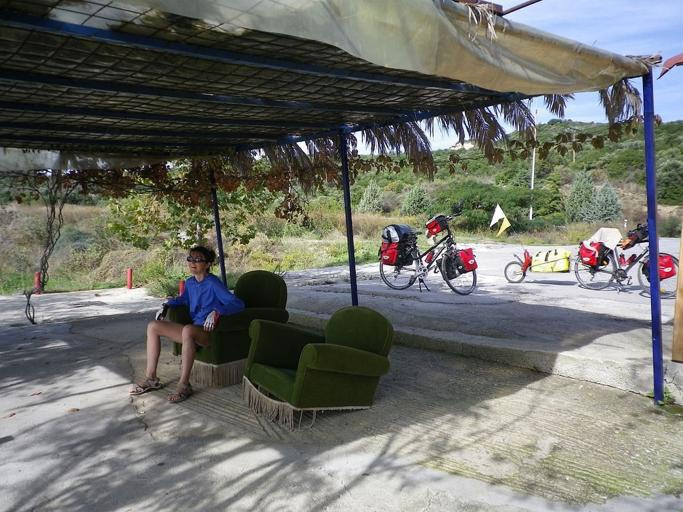non-vehicle: (377, 210, 478, 294), (575, 219, 678, 299)
